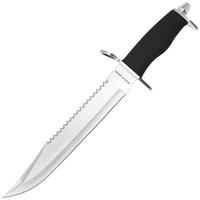knife: (1, 6, 185, 198)
